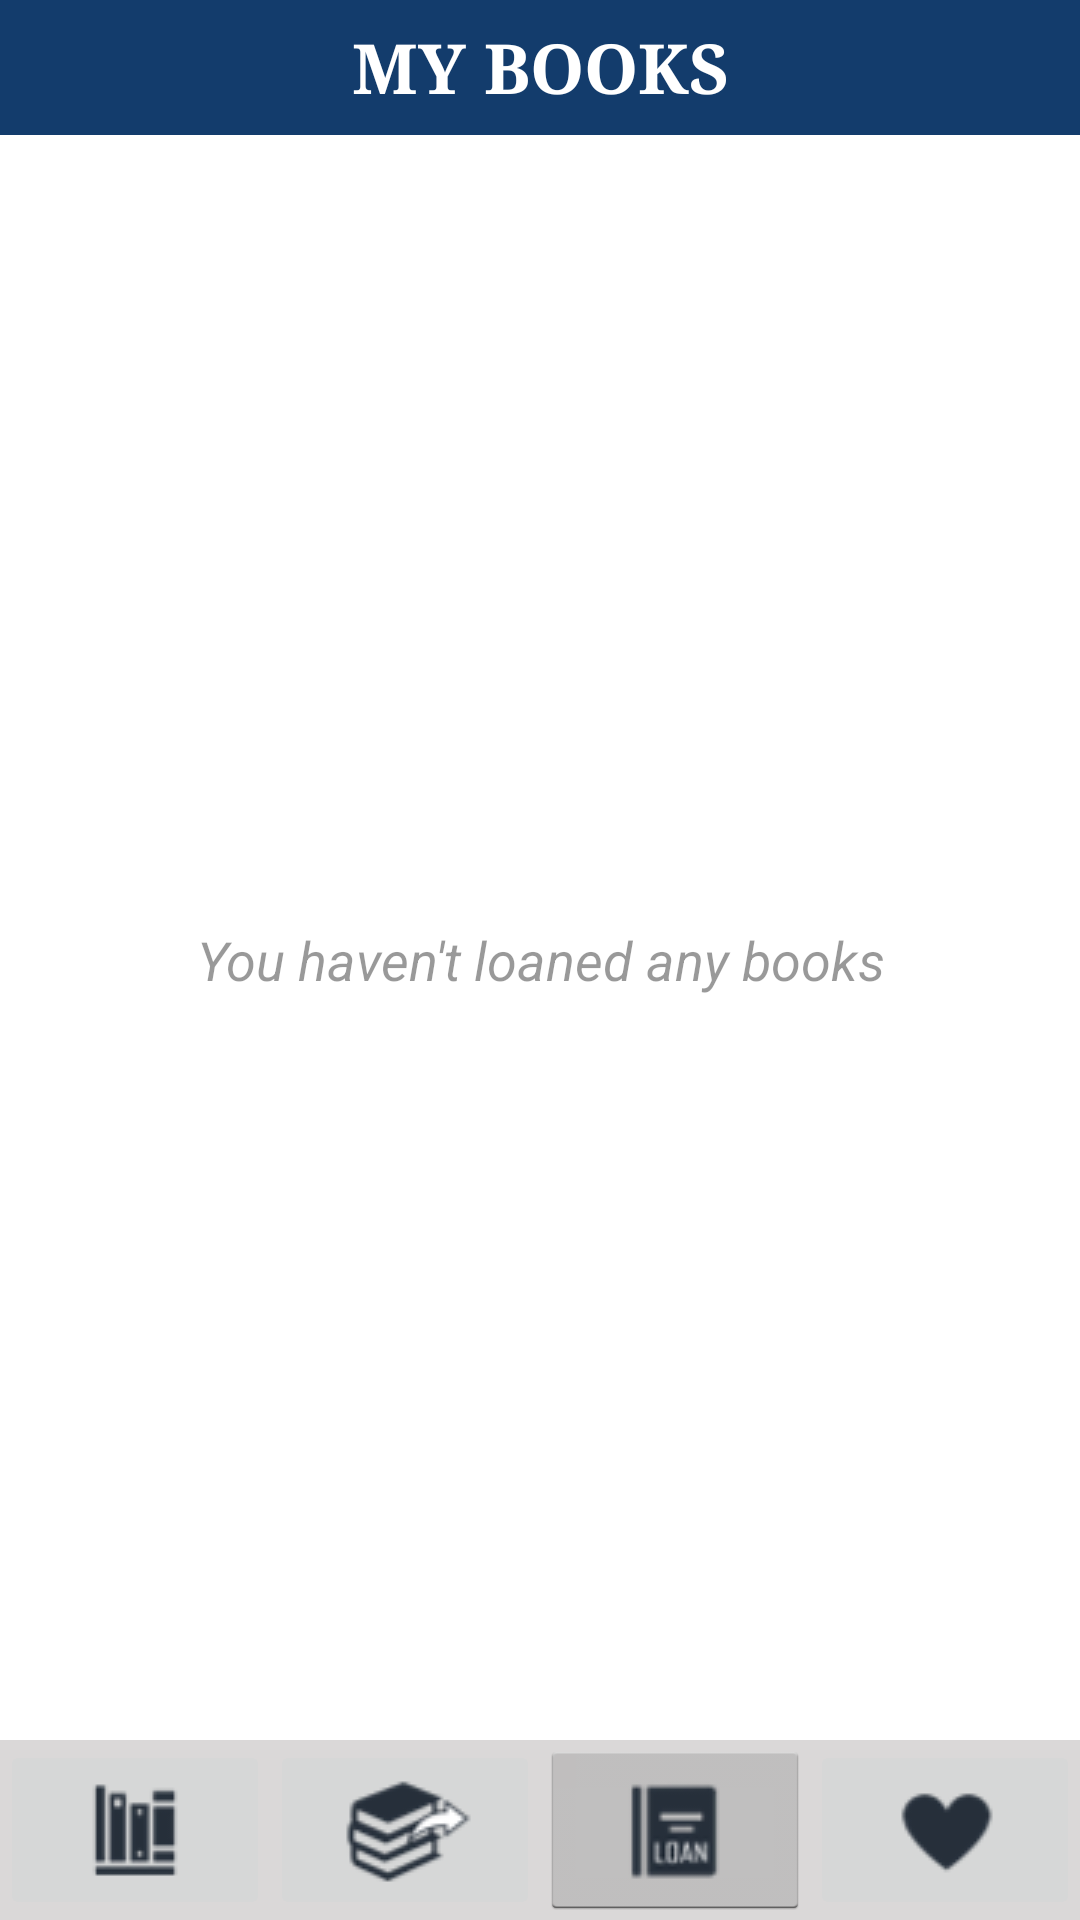

Screen size 1080 x 1920. Icon name, then its box in pixels as bbox=[x1, y1, x2, y2]:
favorite: bbox=[901, 1793, 993, 1871]
library: bbox=[94, 1784, 177, 1876]
return: bbox=[346, 1781, 470, 1882]
